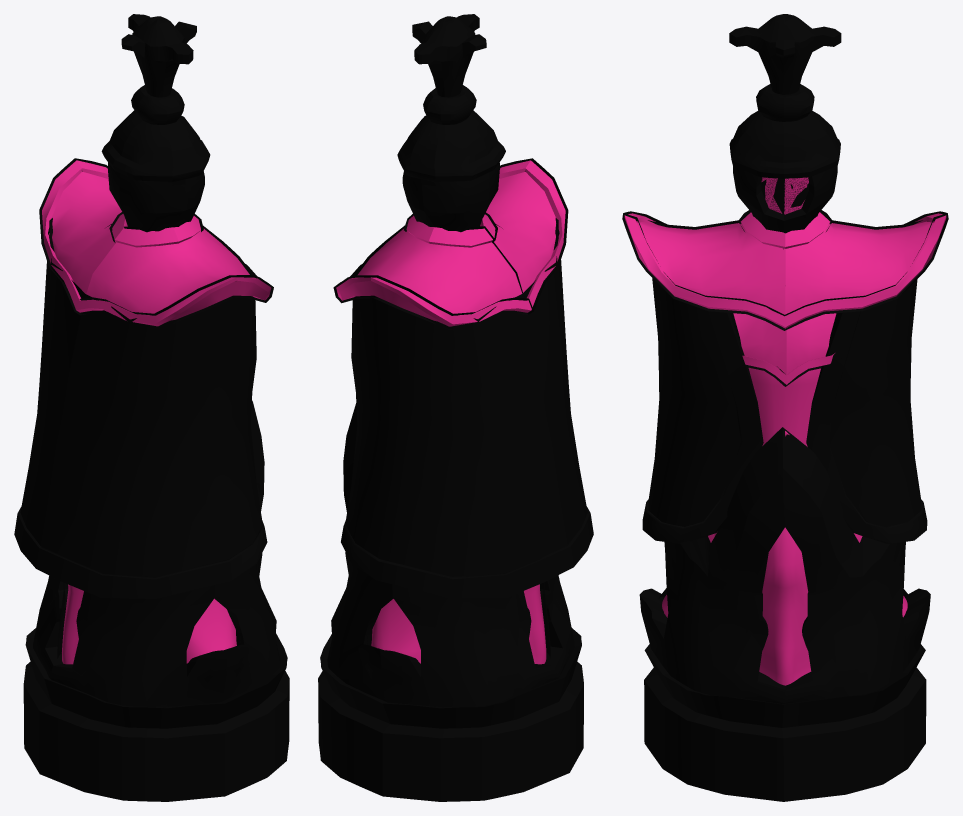
File: Bishop_Outlined01.fbx
3 renders of one model, left to right at view 1: azimuth 30°, elevation 25°; view 2: azimuth 150°, elevation 25°; view 3: azimuth 270°, elevation 25°, orthographic.
Visible parts, largest first — view 1: OutlineDrapes, OutlineBaseB, Cube.107, OutlineHeadB, Cube.104, OutlineCollar; view 2: OutlineDrapes, OutlineBaseB, Cube.107, OutlineHeadB, Cube.104, OutlineCollar; view 3: OutlineBaseB, OutlineDrapes, Cube.107, OutlineHeadB, Cube.104, Cube.108, OutlineCollar, Cube.109.
Part boxes in pixels (x1,y1,x2,y2): OutlineDrapes: [14, 218, 267, 598]; OutlineBaseB: [23, 400, 289, 801]; Cube.107: [42, 160, 271, 326]; OutlineHeadB: [101, 14, 210, 232]; Cube.104: [62, 584, 236, 664]; OutlineCollar: [39, 158, 273, 322]; OutlineDrapes: [341, 218, 593, 598]; OutlineBaseB: [318, 403, 583, 801]; Cube.107: [336, 160, 565, 326]; OutlineHeadB: [397, 14, 505, 232]; Cube.104: [371, 584, 546, 664]; OutlineCollar: [333, 158, 568, 329]; OutlineBaseB: [639, 427, 930, 801]; OutlineDrapes: [642, 278, 927, 543]; Cube.107: [624, 212, 946, 328]; OutlineHeadB: [729, 14, 841, 232]; Cube.104: [662, 367, 907, 685]; Cube.108: [733, 313, 836, 384]; OutlineCollar: [622, 210, 948, 330]; Cube.109: [761, 177, 808, 214].
Bounding box in the file's own units: 121 × 352 × 142.
